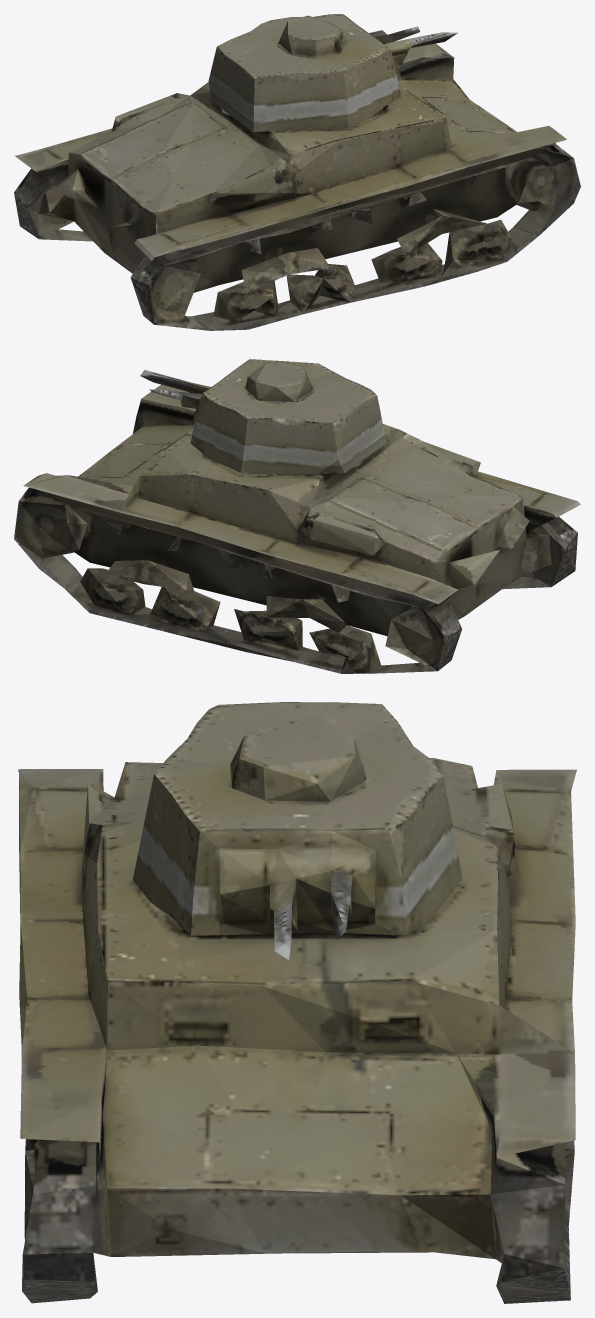
The model's file is both.obj.
3 renders of one model, top to bottom at view 1: azimuth 30°, elevation 25°; view 2: azimuth 150°, elevation 25°; view 3: azimuth 270°, elevation 25°, orthographic. The views are drawn at different scales.
Parts seen in each view (by area): view 1: turret.obj; view 2: turret.obj; view 3: turret.obj.
Boxes of the visible parts, x1,y1,x2,y2 form: turret.obj: (14,14,580,330); turret.obj: (14,359,580,673); turret.obj: (18,702,576,1303).
Size of the model in its own units: 0.9934 by 0.4806 by 0.5557.
1 material, 1 textured.
